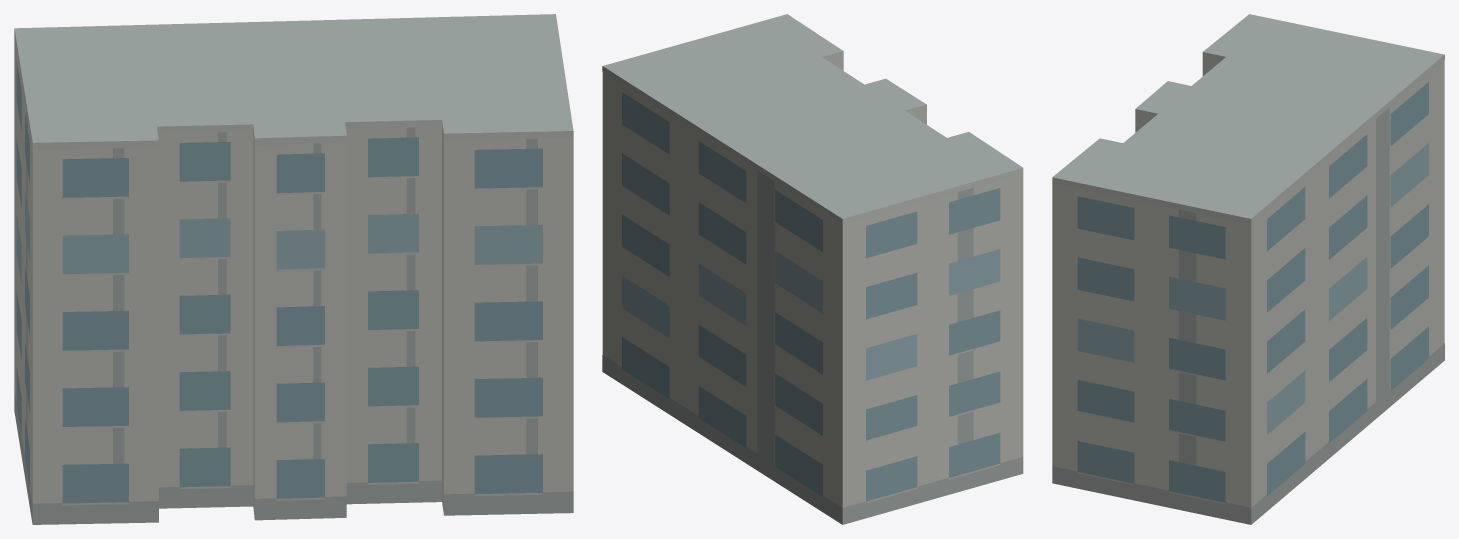
Rendered from survey-upis-32886657.glb.
3 renders of one model, left to right at view 1: azimuth 30°, elevation 25°; view 2: azimuth 150°, elevation 25°; view 3: azimuth 270°, elevation 25°, orthographic. The views are drawn at different scales.
Parts seen in each view (by area): view 1: survey-upis-32886657.tmp; view 2: survey-upis-32886657.tmp; view 3: survey-upis-32886657.tmp.
Boxes of the visible parts, <box> form: survey-upis-32886657.tmp: <box>14,14,573,524</box>; survey-upis-32886657.tmp: <box>602,14,1023,524</box>; survey-upis-32886657.tmp: <box>1052,14,1444,524</box>.
Size of the model in its own units: 18.68 by 13 by 15.12.
